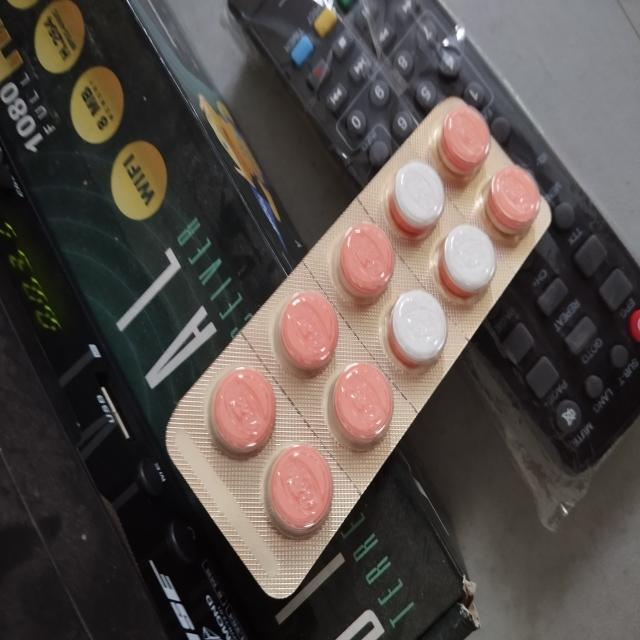B3: (166, 93, 552, 607)
